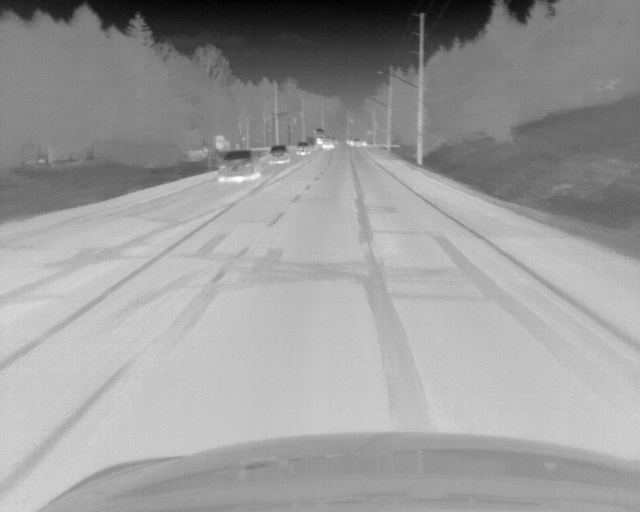car: (216, 149, 260, 182), (267, 144, 289, 163), (296, 141, 309, 156), (322, 137, 335, 152), (315, 128, 323, 146), (348, 138, 361, 148)
